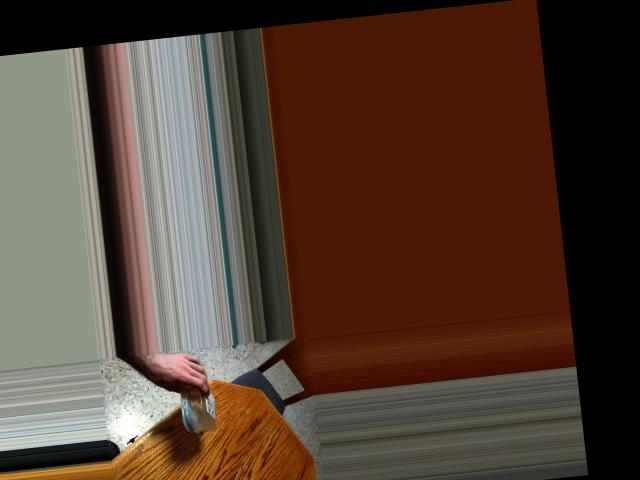cheese: (165, 361, 227, 431)
